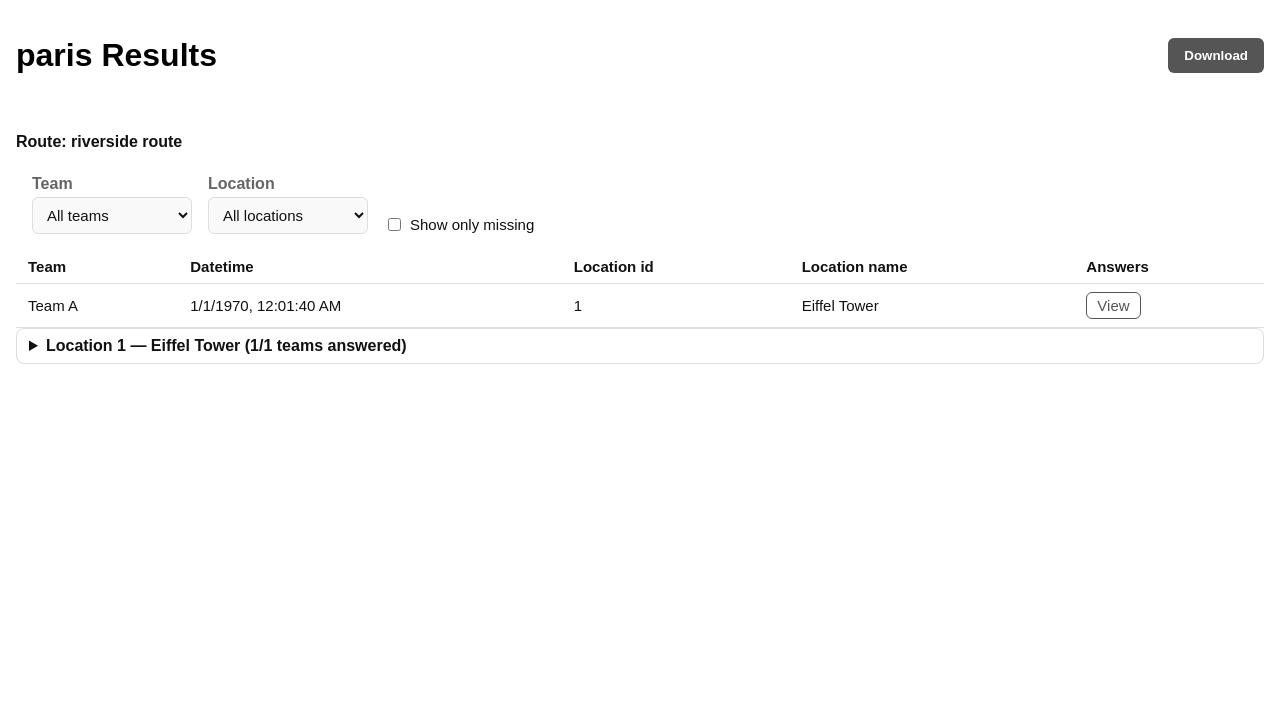
Test: clicking View opens the answer dialog for that submission
Click the button "View".
click(1113, 306)  # box [1086,292,1141,319]
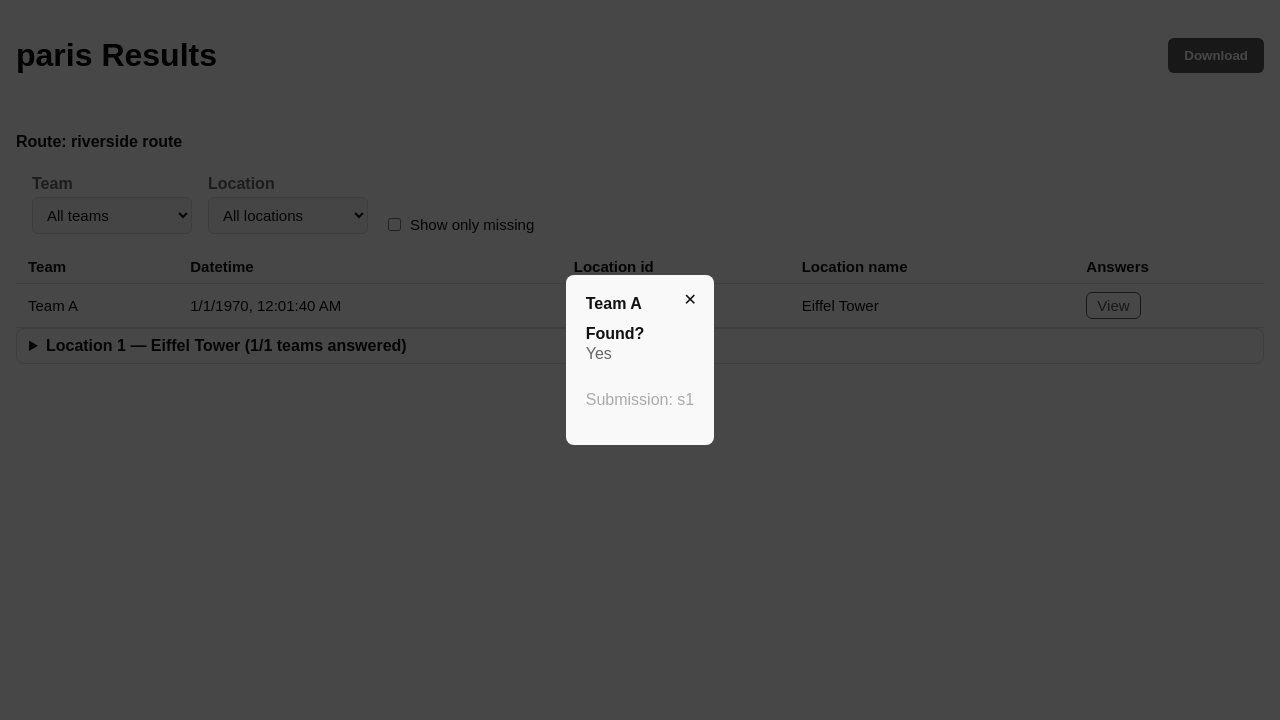
Check: the dialog is shown
